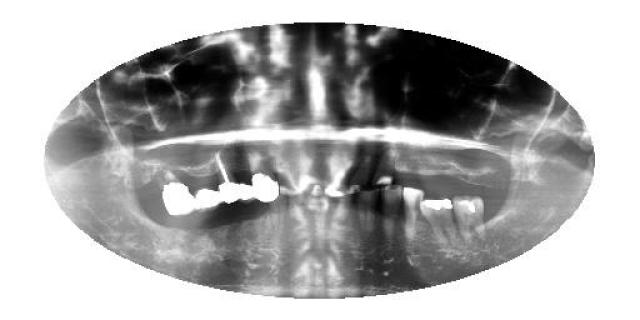Fillings: (418, 196, 458, 248), (155, 169, 195, 216), (453, 195, 485, 243), (251, 158, 280, 202), (194, 184, 218, 212), (238, 170, 254, 202)
Implant: (212, 150, 242, 205)
